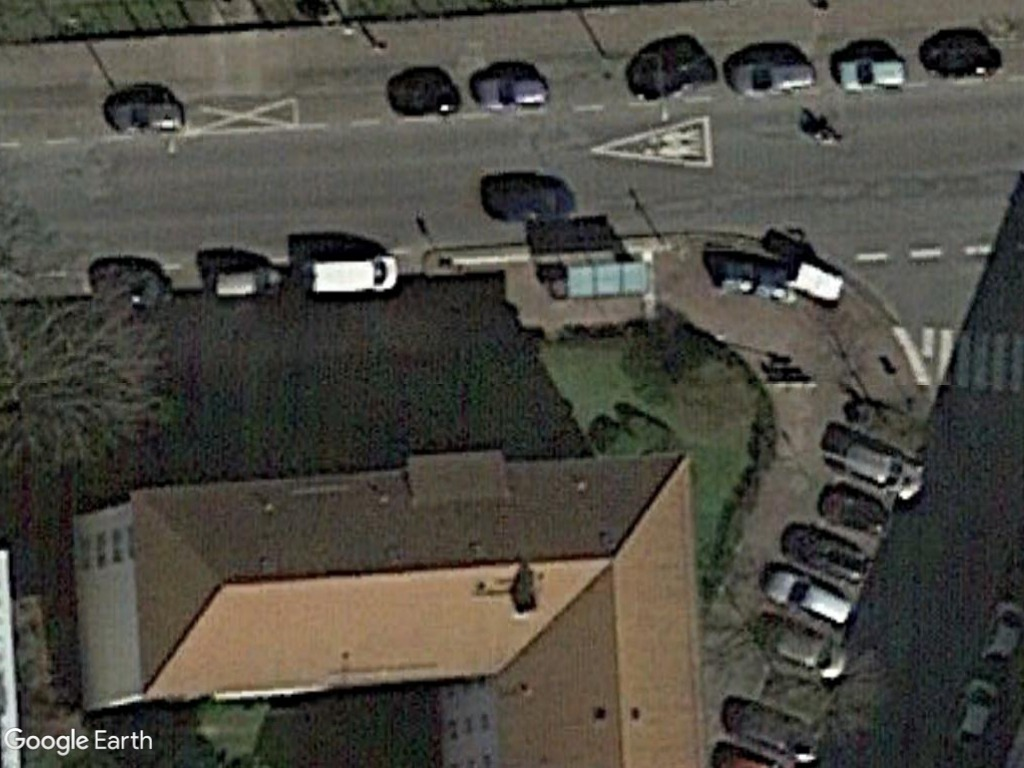car: (762, 566, 856, 631), (725, 57, 821, 101), (834, 54, 908, 94)
van: (304, 251, 402, 300)
